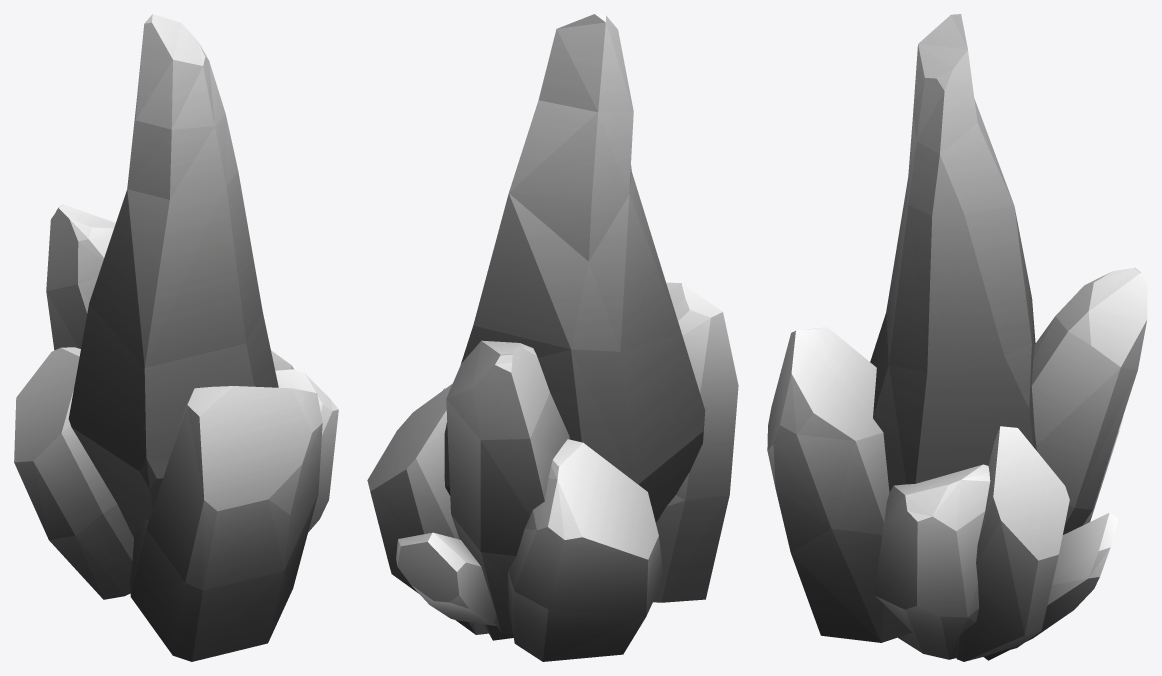
The model's file is CrystalShardCluster_E.fbx.
3 views of the same model, side by side, from view 1: azimuth 30°, elevation 25°; view 2: azimuth 150°, elevation 25°; view 3: azimuth 270°, elevation 25° (orthographic). The views are drawn at different scales.
Parts seen in each view (by area): view 1: CrystalShardCluster_E; view 2: CrystalShardCluster_E; view 3: CrystalShardCluster_E.
Part boxes in pixels (box(x1,y1,x2,y2)): CrystalShardCluster_E: box(14, 14, 338, 661); CrystalShardCluster_E: box(367, 14, 738, 661); CrystalShardCluster_E: box(767, 14, 1147, 661).
Size of the model in its own units: 176 by 371 by 212.
1 material, 1 textured.
